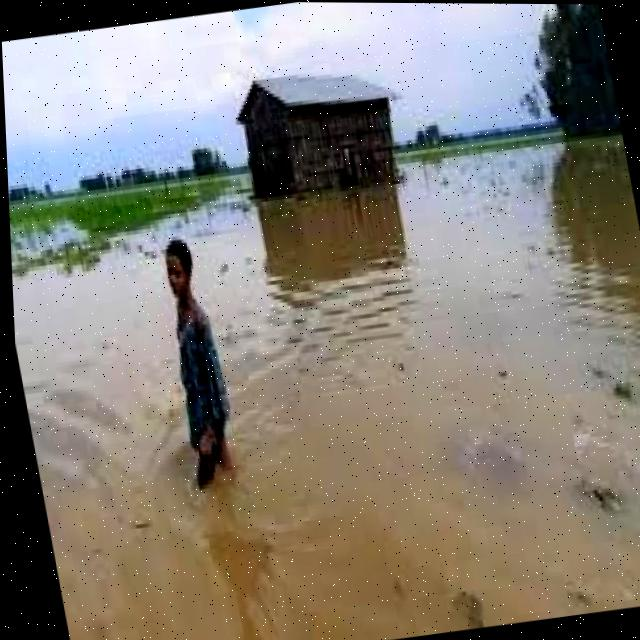civilian: (136, 227, 258, 525)
